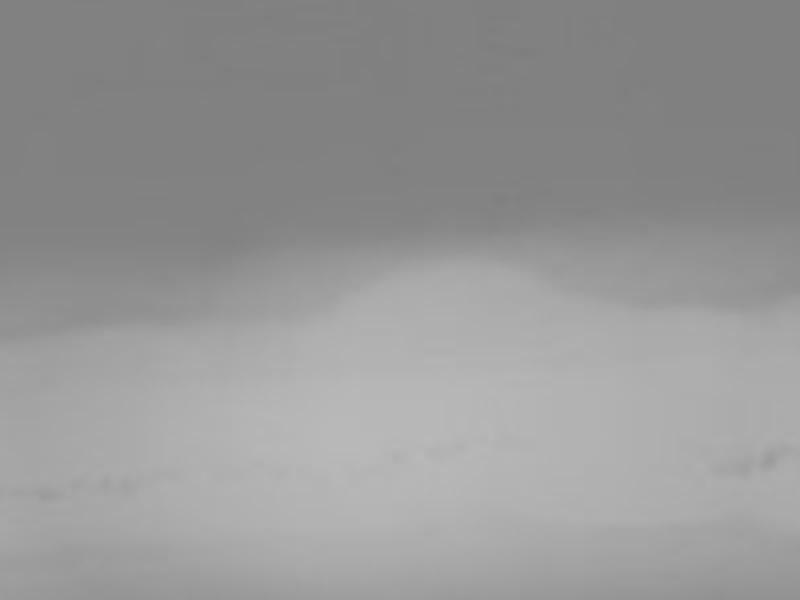defect: (765, 438, 792, 469), (734, 451, 754, 476)
